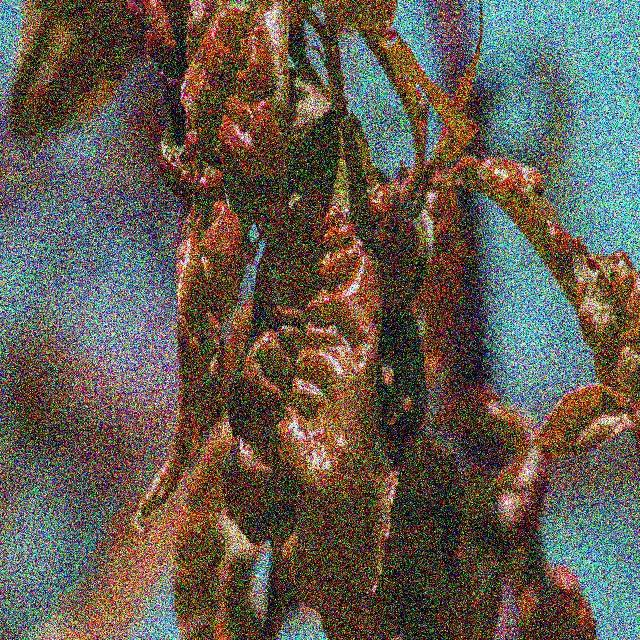leaf_curl: (453, 134, 640, 547), (241, 199, 428, 576), (100, 162, 287, 538), (137, 0, 343, 177)
